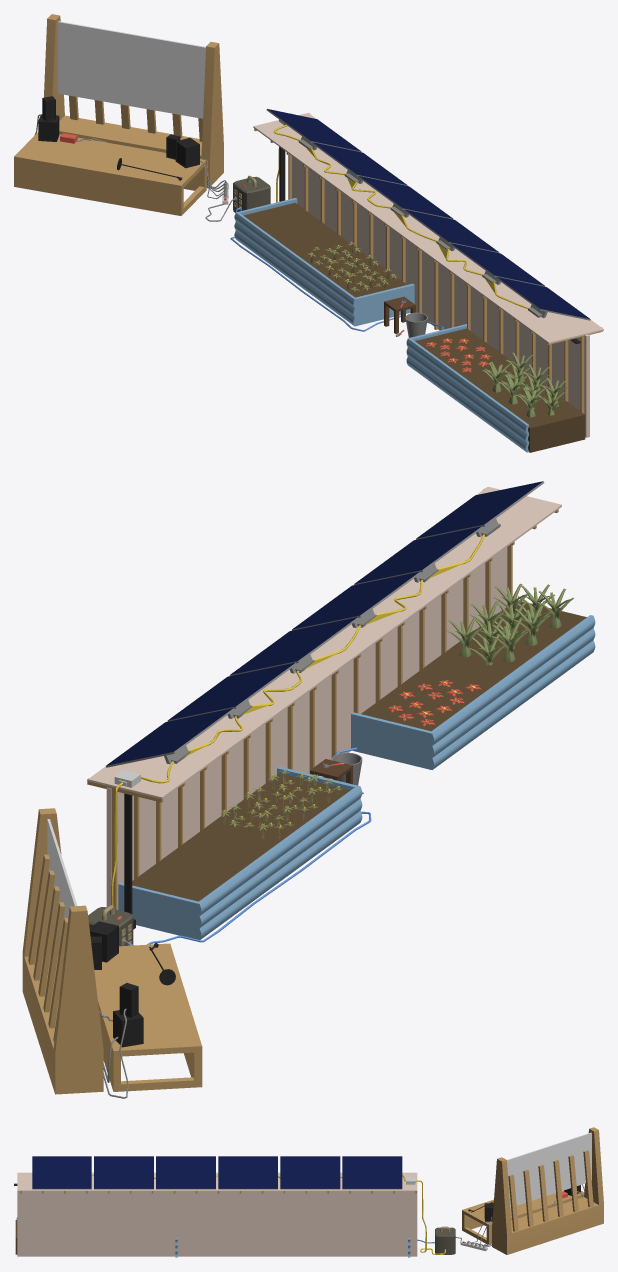
File: StageAndGarden.fbx
3 views of the same model, one above another, from view 1: azimuth 30°, elevation 25°; view 2: azimuth 150°, elevation 25°; view 3: azimuth 270°, elevation 25° (orthographic). The views are drawn at different scales.
Parts seen in each view (by area): view 1: Cube.364; view 2: Cube.364; view 3: Cube.364.
Part boxes in pixels (x1,y1,x2,y2): Cube.364: (14,14,603,452); Cube.364: (22,481,595,1098); Cube.364: (14,1127,603,1257).
Size of the model in its own units: 492 by 337 by 1957.
